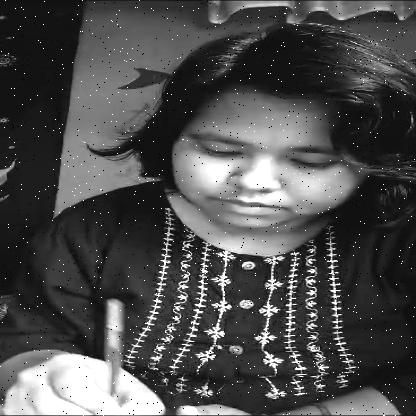Normal: (168, 93, 369, 230)
